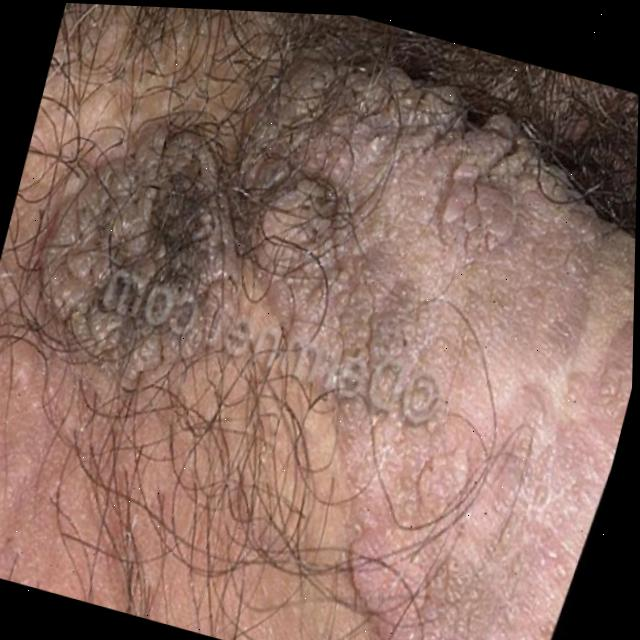Shingles: (231, 27, 602, 348), (12, 85, 270, 394)
